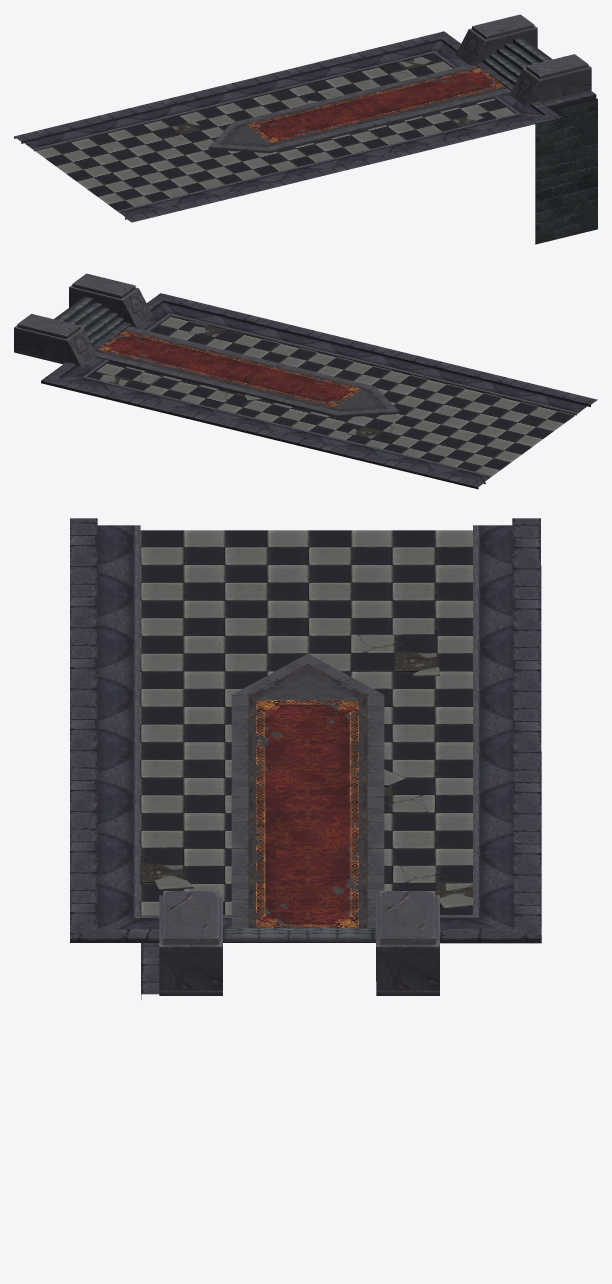
File: terrain_section02_guanka12C.FBX
3 views of the same model, one above another, from view 1: azimuth 30°, elevation 25°; view 2: azimuth 150°, elevation 25°; view 3: azimuth 270°, elevation 25° (orthographic). The views are drawn at different scales.
Visible parts, largest first — view 1: terrain_section02_guanka12C; view 2: terrain_section02_guanka12C; view 3: terrain_section02_guanka12C.
Part boxes in pixels (x1=…): terrain_section02_guanka12C: x1=14, y1=14, x2=597, y2=244; terrain_section02_guanka12C: x1=14, y1=273, x2=597, y2=489; terrain_section02_guanka12C: x1=70, y1=518, x2=541, y2=999.
Bounding box in the file's own units: 5125 × 2157 × 1647.
